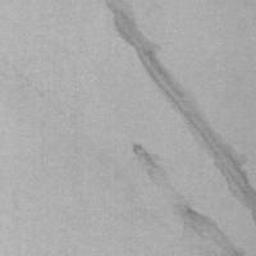Water spot: (101, 0, 256, 230), (0, 52, 129, 187), (131, 142, 250, 256)
